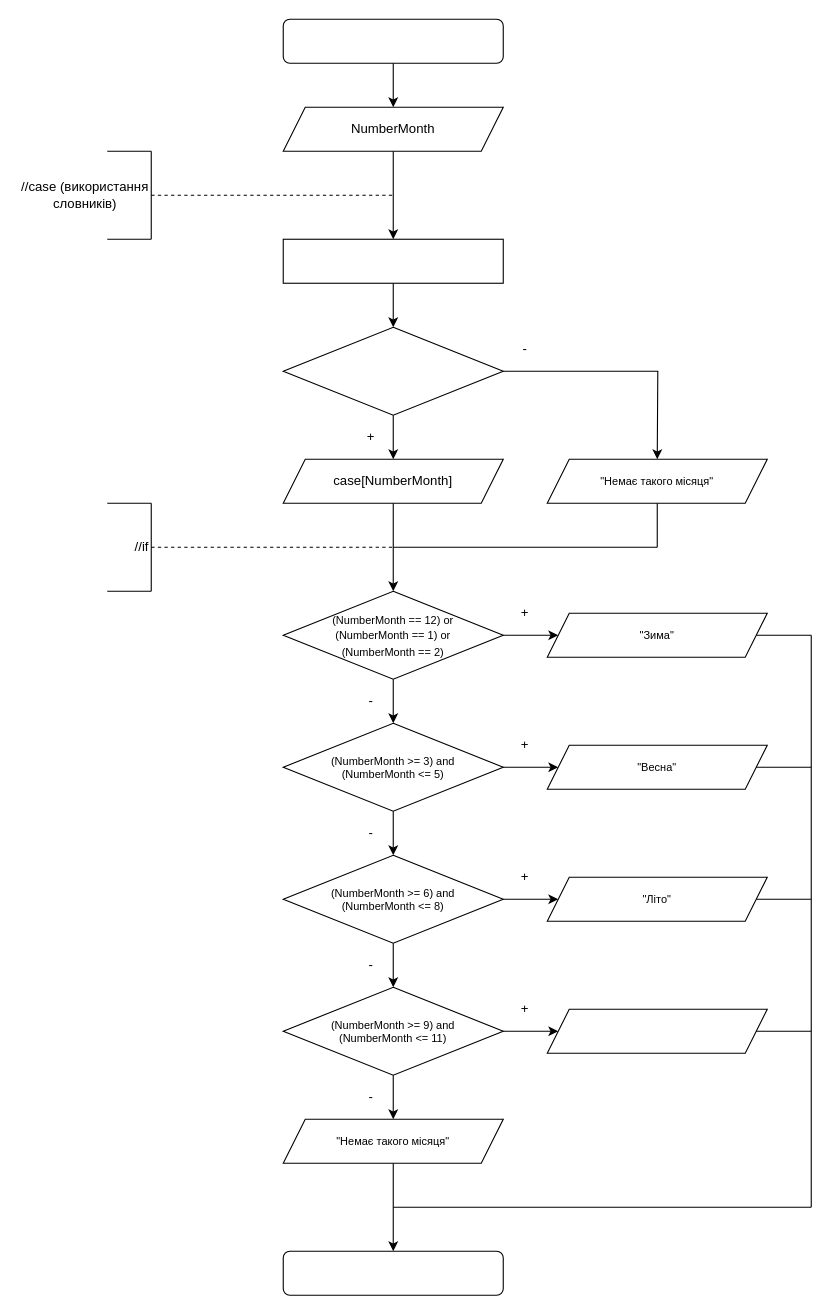
This 832x1315 diagram has some shape labels left out. The centre of each missing label's shape, as x and y in pixels:
"Осінь": the point at 656,1030
case = { 1 ... 12}: the point at 392,260
NumberMonth in case: the point at 392,370
КІНЕЦЬ: the point at 392,1272
ПОЧАТОК: the point at 392,40
